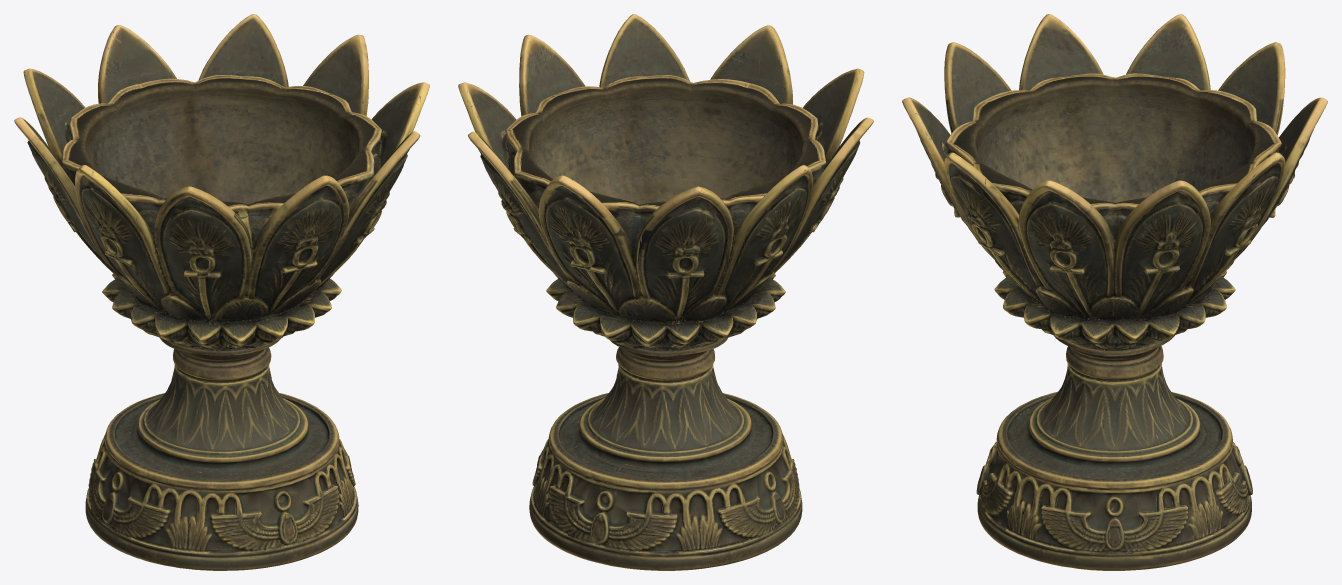
File: WF_EgyptianTombV2_LotusCup.fbx
The picture shows the model from 3 angles, left to right: view 1: azimuth 30°, elevation 25°; view 2: azimuth 150°, elevation 25°; view 3: azimuth 270°, elevation 25°; orthographic projection.
Visible parts, largest first — view 1: Mesh1.0; view 2: Mesh1.0; view 3: Mesh1.0.
Boxes of the visible parts, <box> form: Mesh1.0: <box>14,14,429,570</box>; Mesh1.0: <box>458,14,873,570</box>; Mesh1.0: <box>902,14,1327,570</box>.
Bounding box in the file's own units: 168 × 191 × 177.
1 material, 1 textured.
